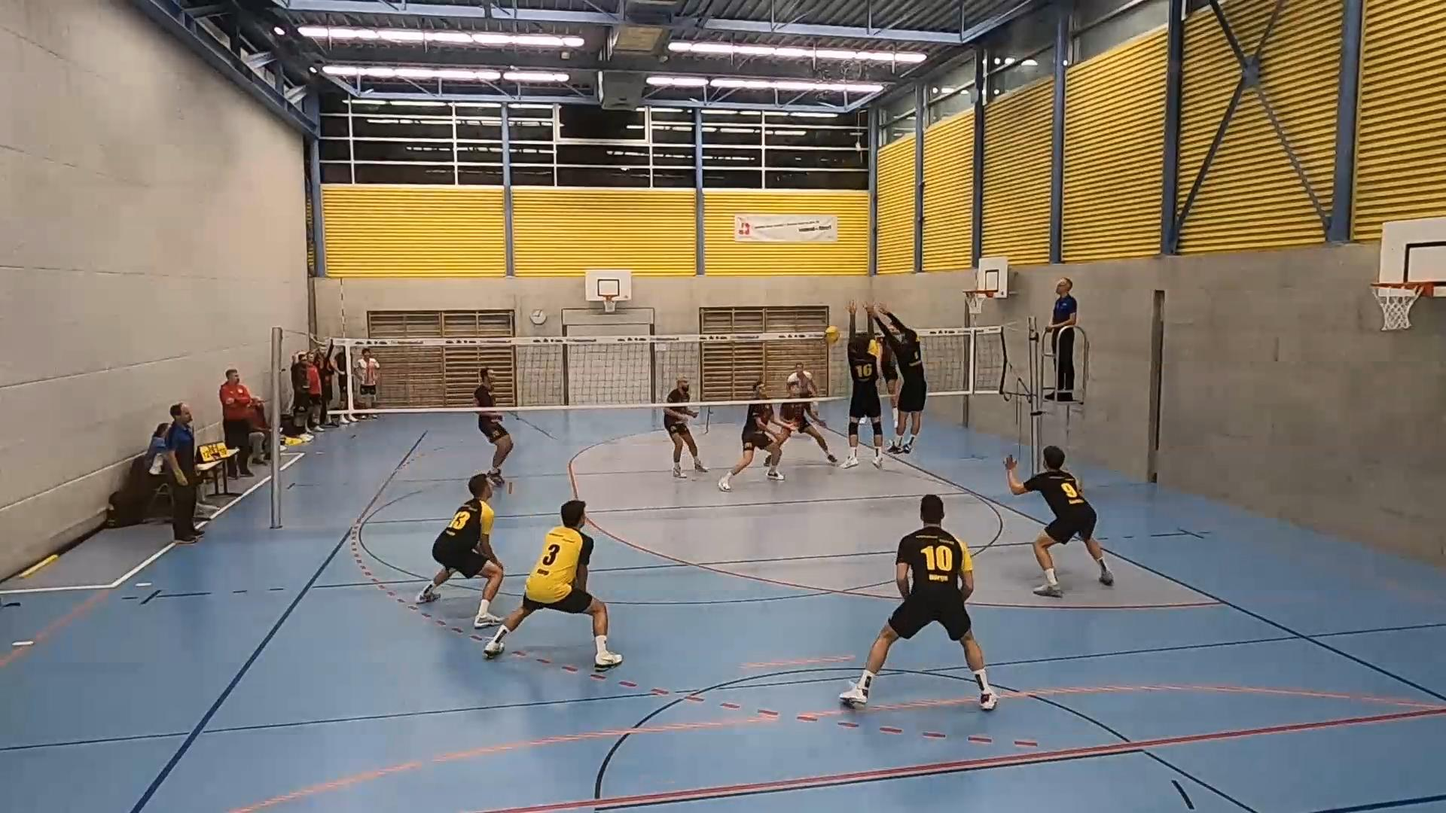attacco: (869, 317, 905, 437)
muro: (872, 302, 928, 459), (838, 297, 886, 471)
